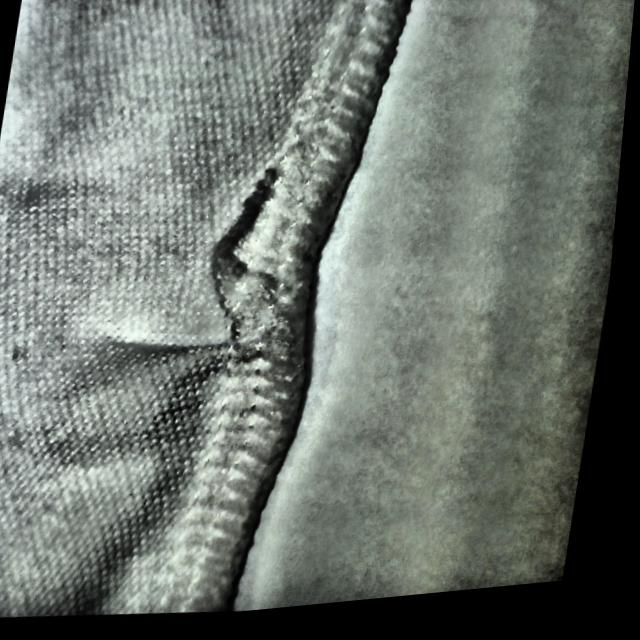seam: (105, 155, 353, 414)
